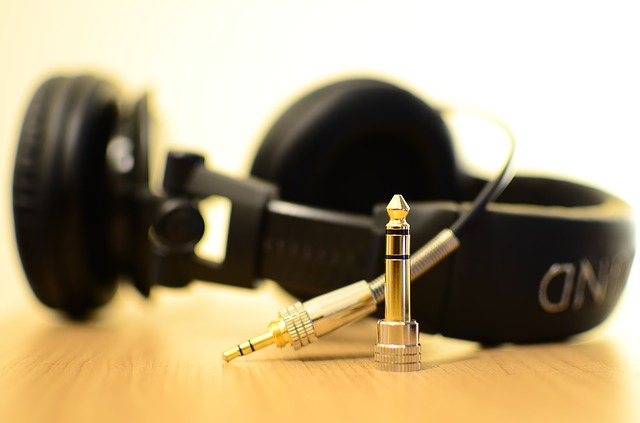headphones: (10, 75, 636, 344)
